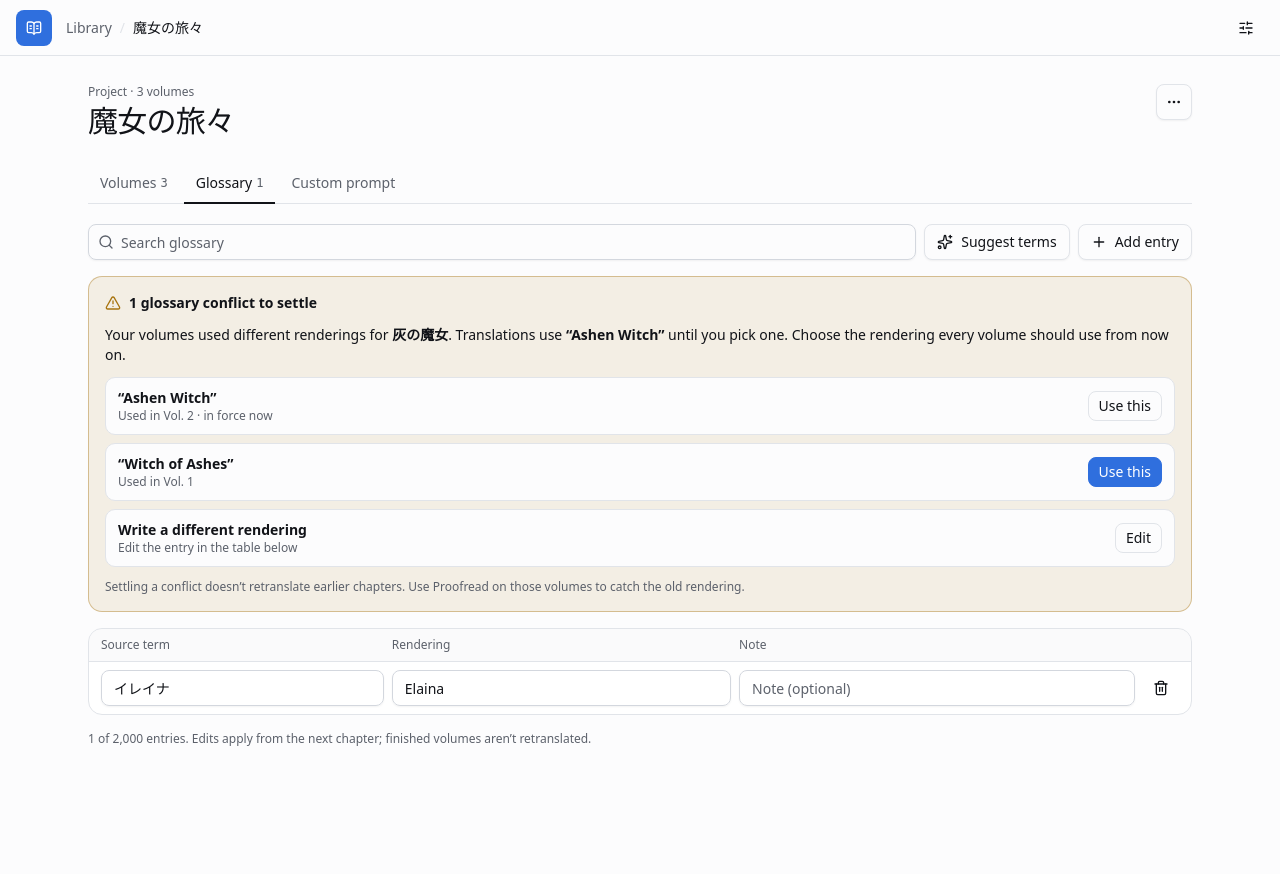
Test: suggesting from all volumes › ends the run on a failed request, keeping the terms gathered so far
The width and height of the screenshot is (1280, 874).
Click the button "Suggest terms" at (997, 242), box x1=924 y1=224 x2=1070 y2=260
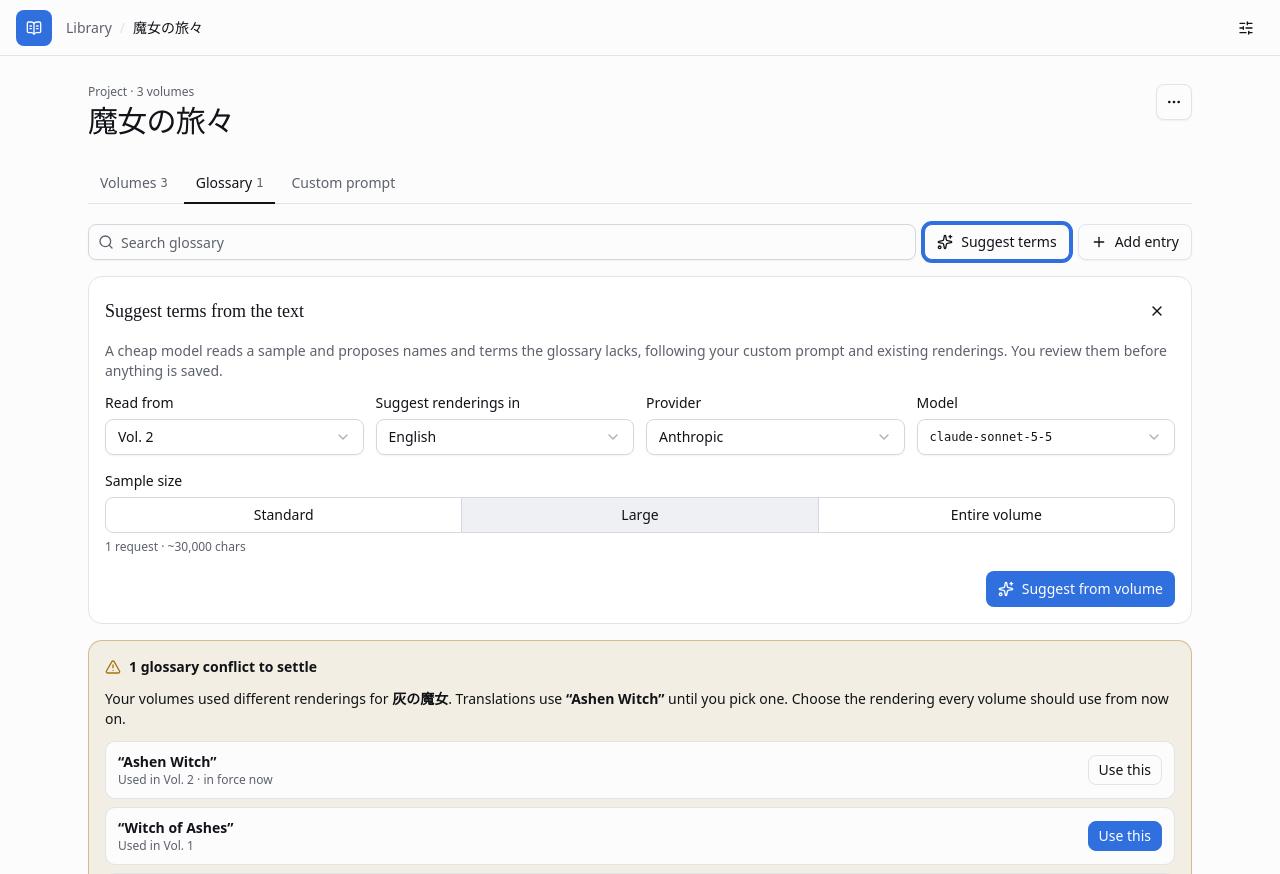
Expected: the text "1 request · ~30,000 chars" is shown, x1=105 y1=538 x2=246 y2=555
Click the dropdown named "Read from" at (234, 437), box x1=105 y1=419 x2=364 y2=455
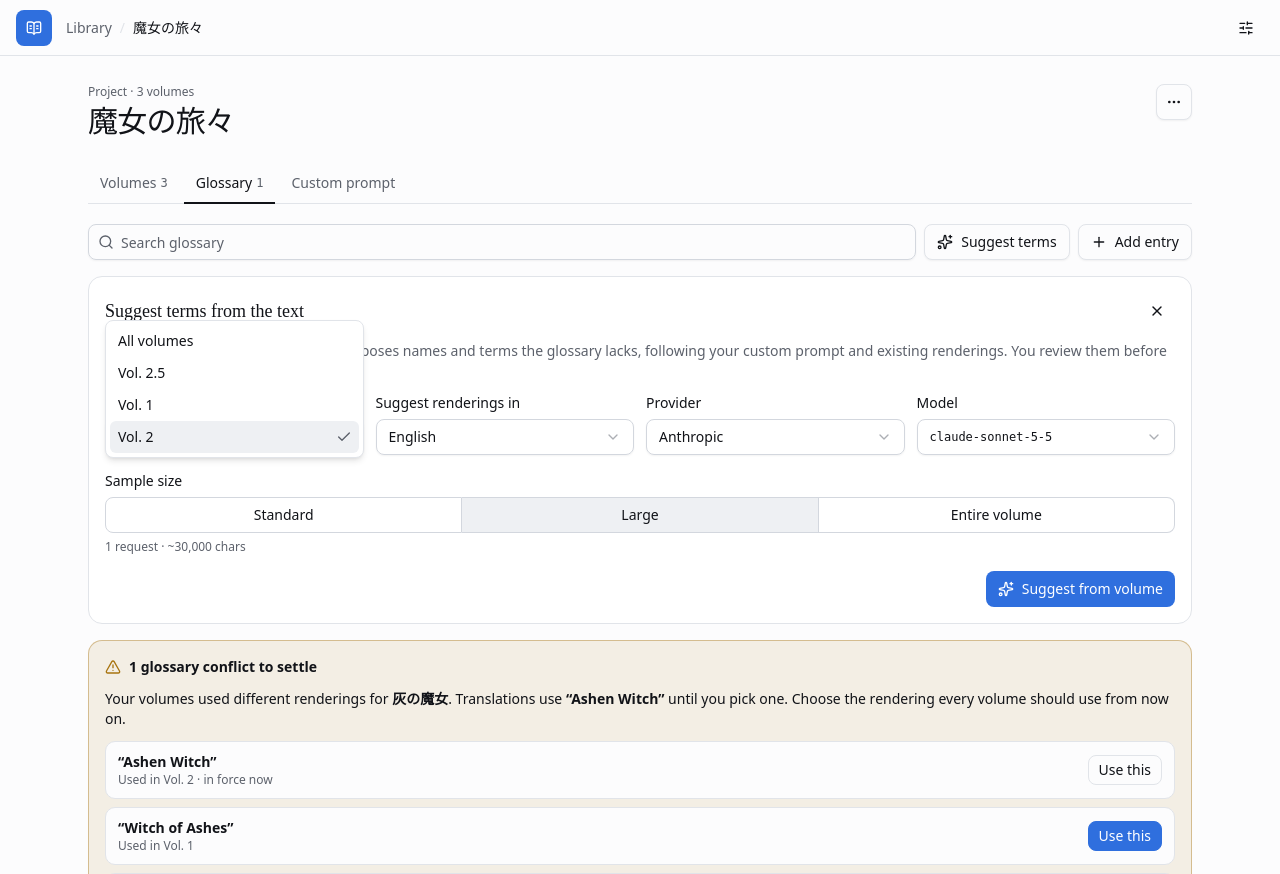
Click the option "All volumes" at (156, 340), box x1=118 y1=331 x2=193 y2=350
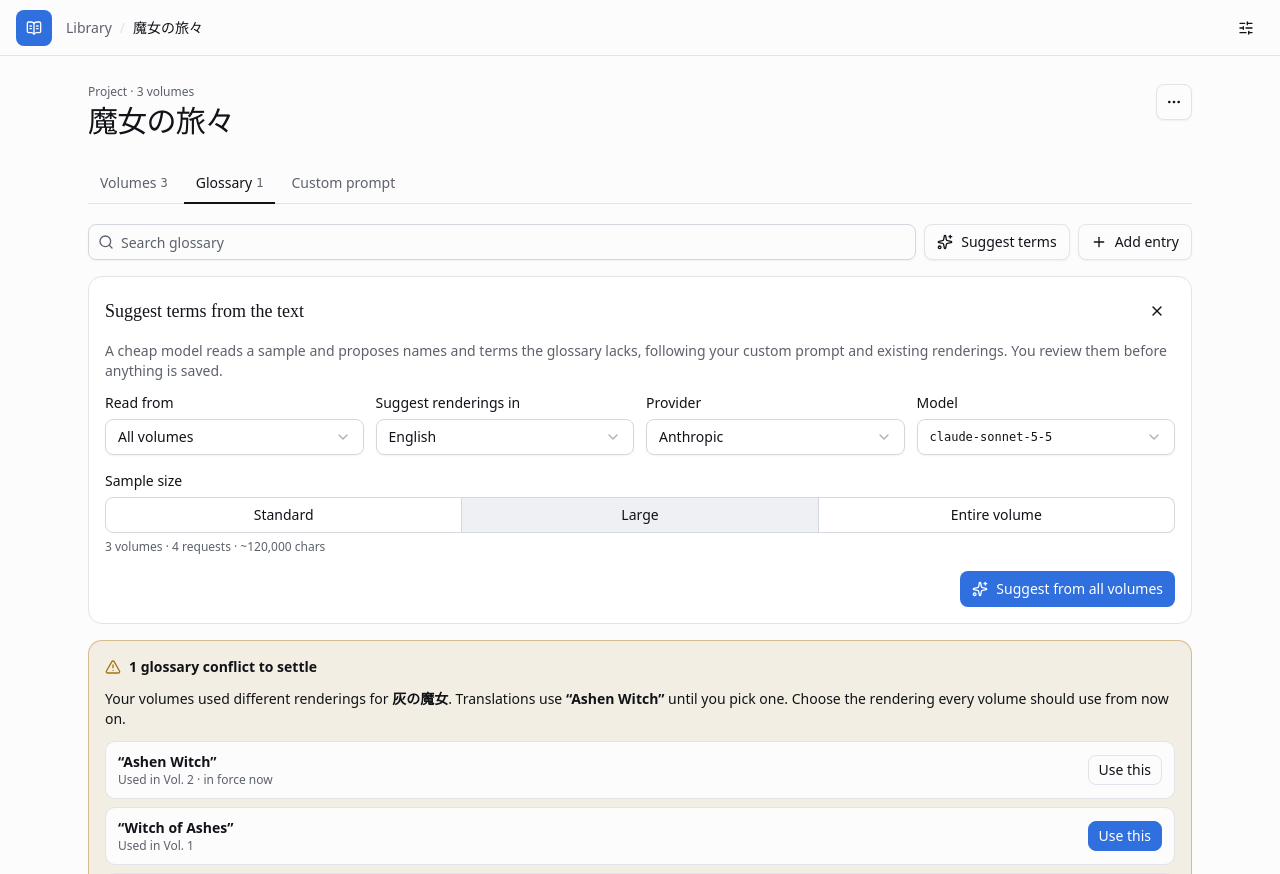
Expected: the text "3 volumes · 4 requests · ~120,000 chars" is shown, x1=105 y1=538 x2=325 y2=555
Click the button "Suggest from all volumes" at (1068, 589), box x1=960 y1=571 x2=1175 y2=607
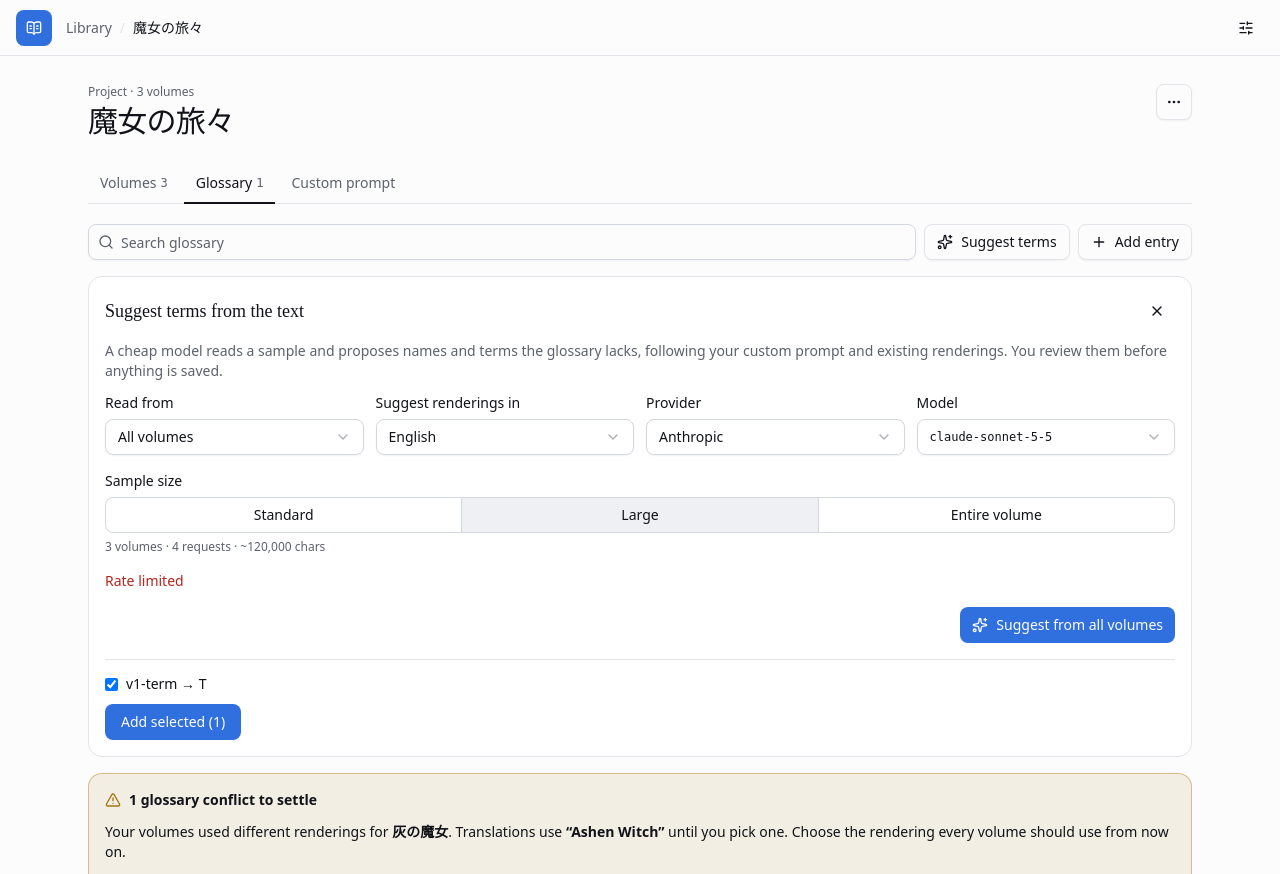
Expected: the message reads "Rate limited", x1=105 y1=571 x2=184 y2=590
Expected: the number of checkboxes is 1, x1=105 y1=678 x2=118 y2=691
